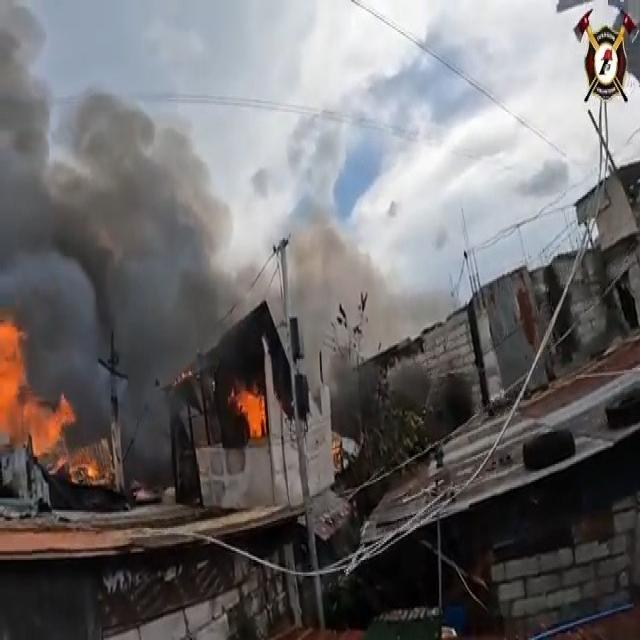Fire: (0, 24, 449, 500)
Smoke: (0, 324, 101, 486), (228, 383, 270, 444), (326, 434, 349, 468)
